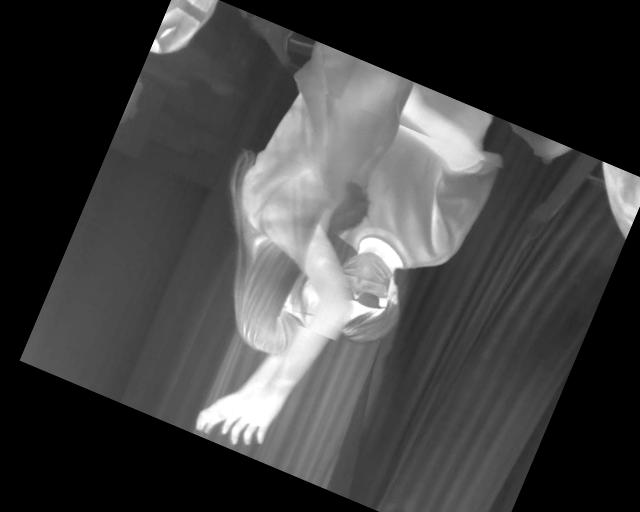face: (322, 248, 412, 355)
